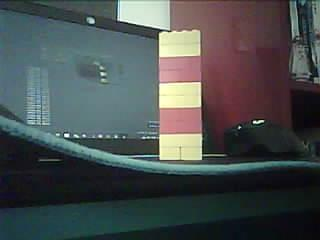lego: (158, 29, 202, 159)
